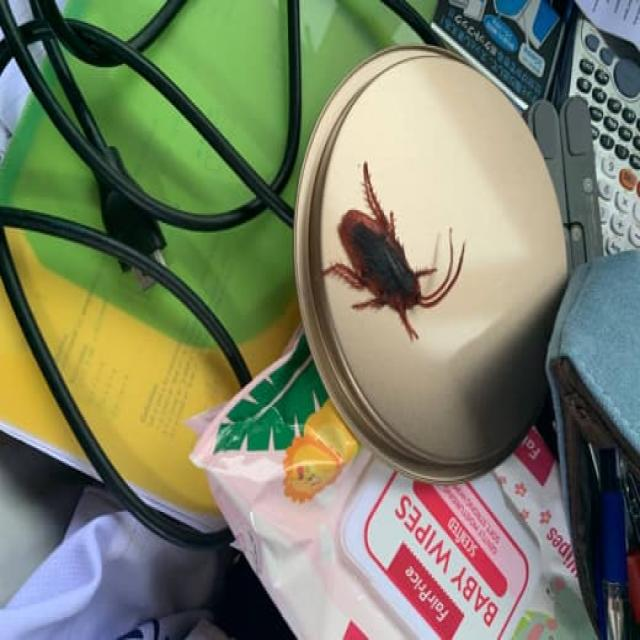Cockroach: (316, 166, 462, 350)
